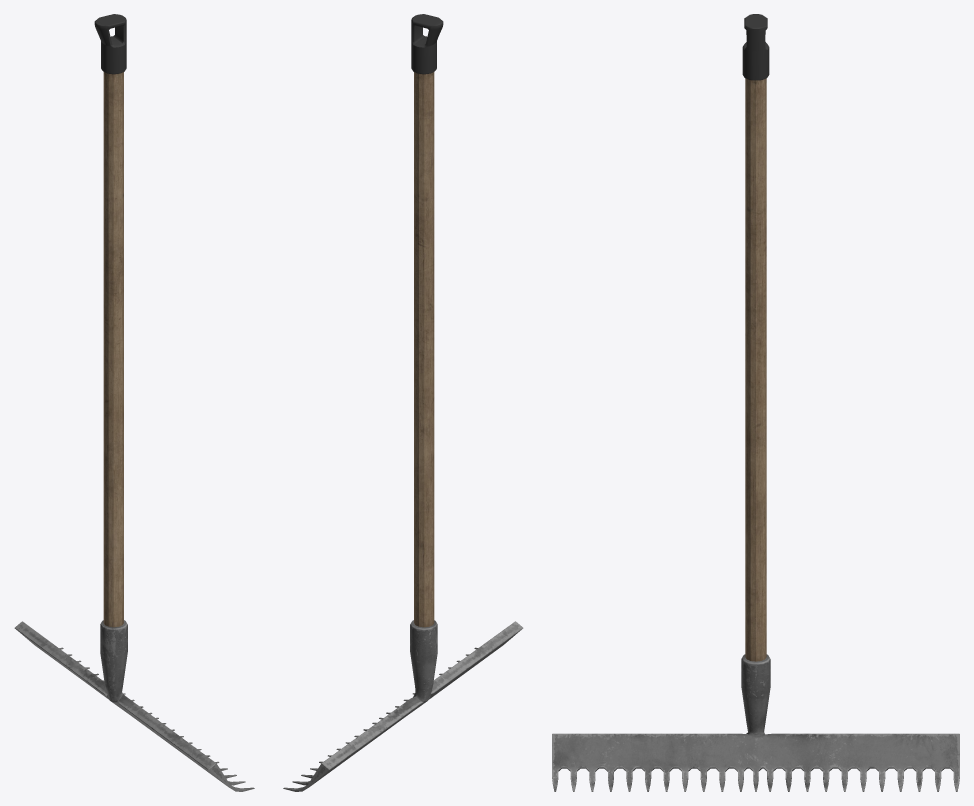
The model's file is Rake_LP.glb.
3 renders of one model, left to right at view 1: azimuth 30°, elevation 25°; view 2: azimuth 150°, elevation 25°; view 3: azimuth 270°, elevation 25°, orthographic. The views are drawn at different scales.
Parts seen in each view (by area): view 1: Rake_LP; view 2: Rake_LP; view 3: Rake_LP.
Part boxes in pixels (bbox=[...]): Rake_LP: bbox=[14, 14, 254, 791]; Rake_LP: bbox=[283, 14, 523, 791]; Rake_LP: bbox=[552, 14, 959, 791].
Bounding box in the file's own units: 0.1418 × 1.54 × 0.7632.
Materials: 1 (1 with a texture image).
